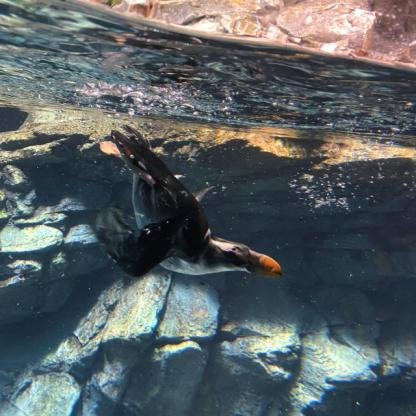puffin: (96, 125, 288, 283)
